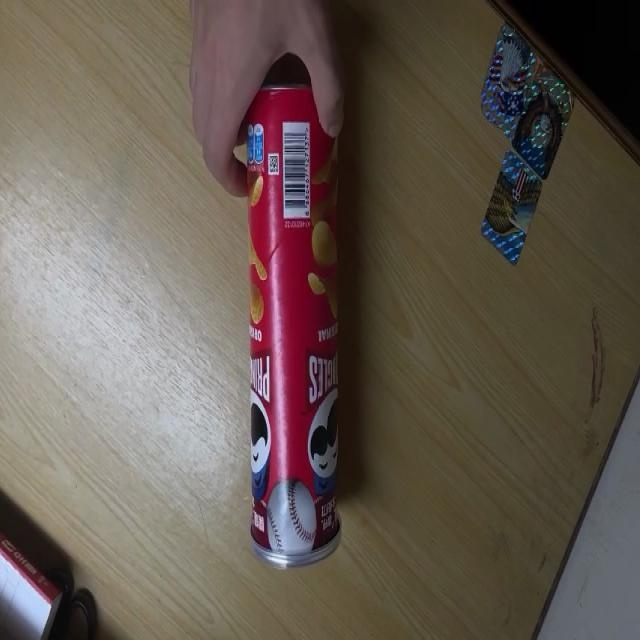Pringles: (240, 79, 344, 570)
